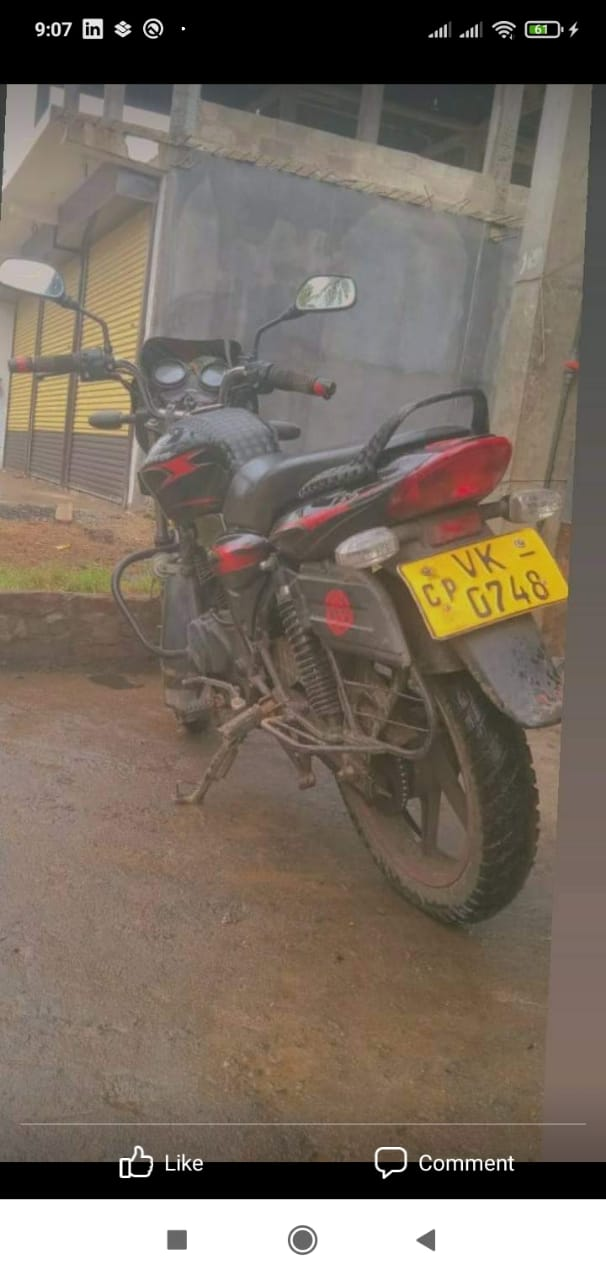number_plate: (383, 524, 570, 645)
